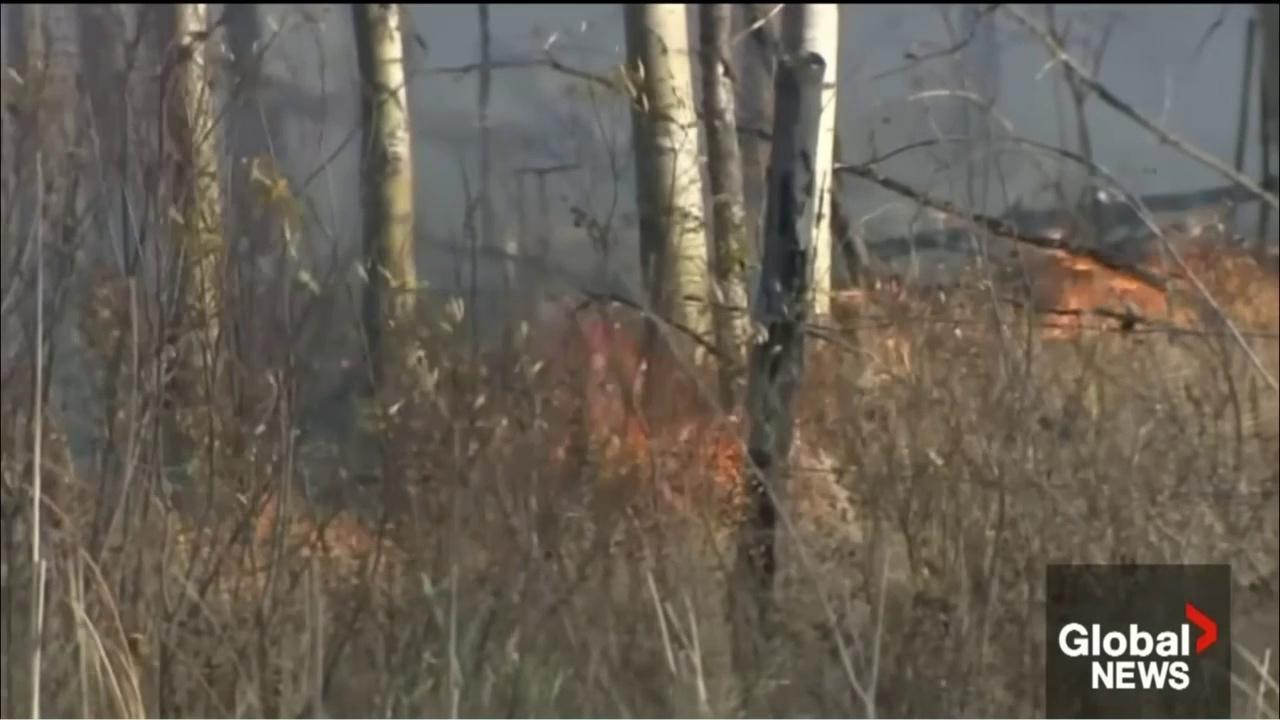fire: (1020, 230, 1208, 343), (544, 302, 661, 472), (254, 485, 387, 563), (667, 410, 759, 521)
smoke: (1, 4, 658, 515), (831, 5, 1279, 299)
